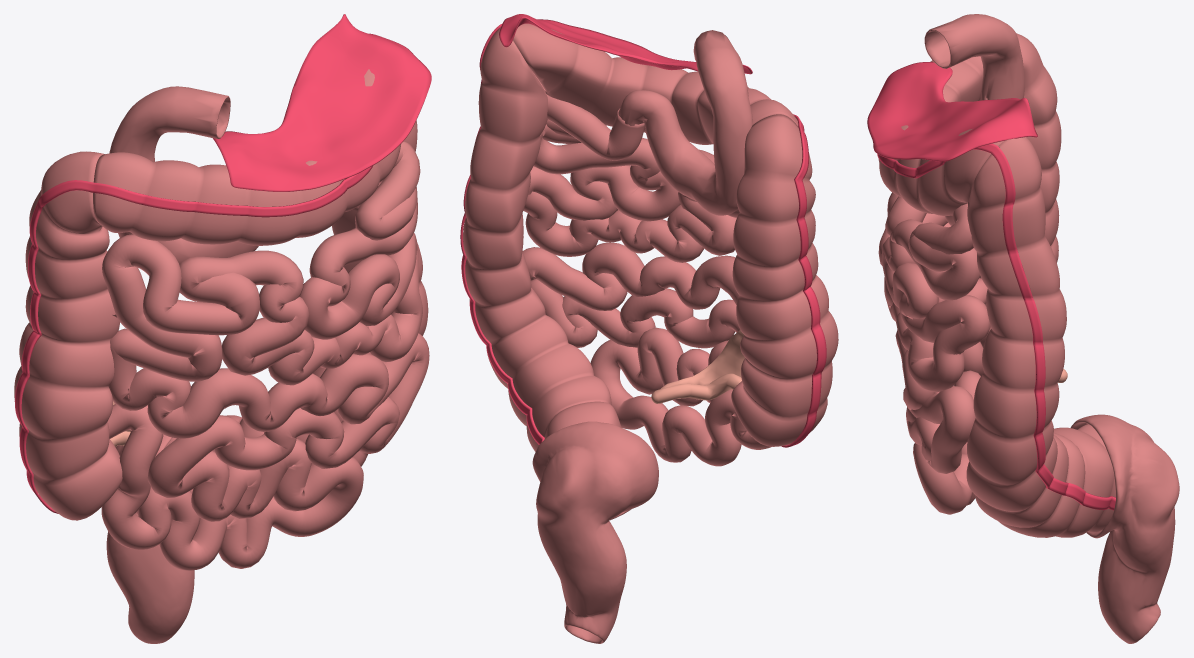
Rendered from Intestines.glb.
The picture shows the model from 3 angles, left to right: view 1: azimuth 30°, elevation 25°; view 2: azimuth 150°, elevation 25°; view 3: azimuth 270°, elevation 25°; orthographic projection. The views are drawn at different scales.
Parts seen in each view (by area): view 1: Jejunum, Ascending colon, Mesocolon, Transverse colon, Duodenum, Sigmoid colon, Mesocolic taenia, Descending colon; view 2: Jejunum, Descending colon, Ascending colon, Sigmoid colon, Duodenum, Transverse colon, Mesocolic taenia, Mesocolon, Meso-appendix, Vermiform appendix; view 3: Descending colon, Jejunum, Sigmoid colon, Mesocolon, Transverse colon, Duodenum, Mesocolic taenia, Ascending colon.
Part boxes in pixels (x1,y1,x2,y2): Jejunum: (101,141,429,570); Ascending colon: (14,151,122,520); Mesocolon: (213,14,431,191); Transverse colon: (93,69,400,245); Duodenum: (109,86,258,264); Sigmoid colon: (106,434,194,643); Mesocolic taenia: (14,166,372,513); Descending colon: (165,120,428,493); Jejunum: (522,94,771,466); Descending colon: (463,27,630,520); Ascending colon: (731,114,838,446); Sigmoid colon: (532,421,658,643); Duodenum: (618,30,752,215); Transverse colon: (513,23,798,144); Mesocolic taenia: (460,23,826,447); Mesocolon: (499,14,752,74); Meso-appendix: (660,330,744,389); Vermiform appendix: (651,373,741,403); Descending colon: (966,137,1115,537); Jejunum: (878,192,990,514); Sigmoid colon: (1070,414,1179,643); Mesocolon: (867,62,1037,161); Transverse colon: (878,56,1003,215); Duodenum: (924,14,1024,100); Mesocolic taenia: (877,143,1115,510); Ascending colon: (979,33,1061,347).
Size of the model in its own units: 0.2496 by 0.3736 by 0.1751.
